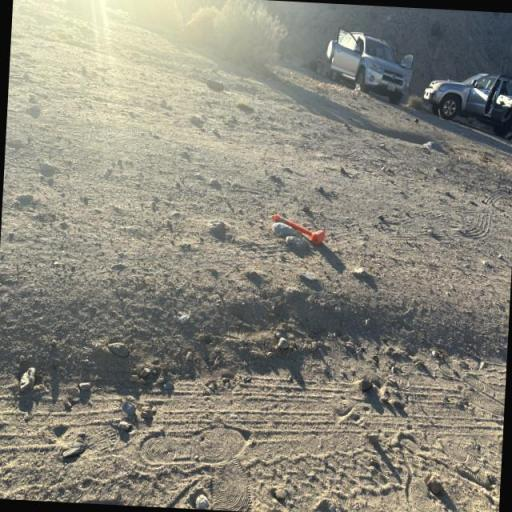mallet: (265, 208, 334, 260)
